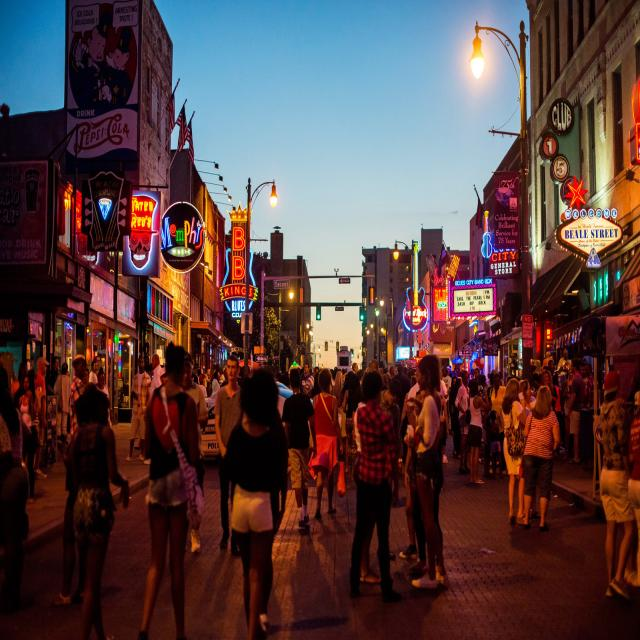Street Light: (469, 21, 536, 418), (240, 179, 277, 406), (394, 238, 414, 365), (379, 293, 396, 373), (278, 288, 294, 373), (370, 319, 380, 367), (375, 308, 382, 372)
